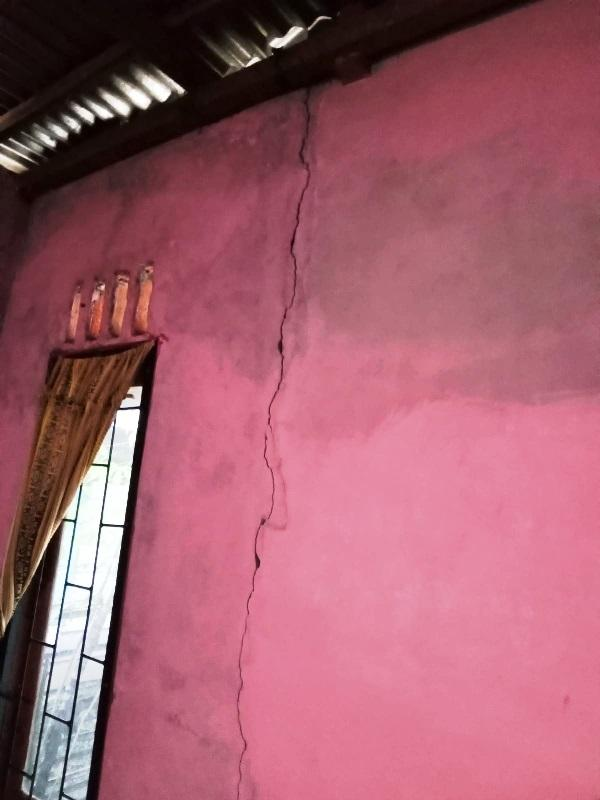Crack: (230, 80, 334, 800)
